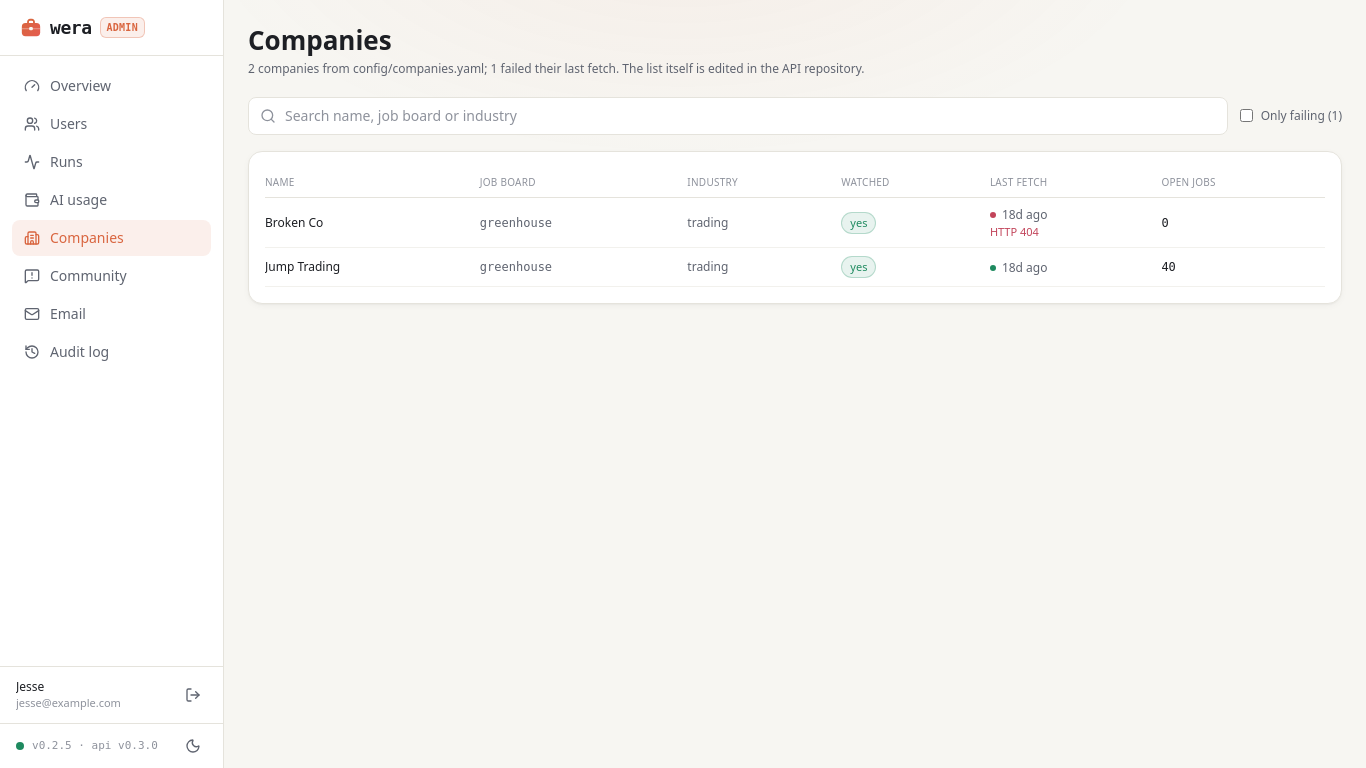
Test: CompaniesPage › puts failing companies first and filters to them
Check: the row "Broken Co greenhouse trading yes 18d ago HTTP 404 0" is shown, box [265,197,1325,248]
Check: the text "HTTP 404" is shown, box [990,224,1039,239]
Click the checkbox labelled "Only failing (1)".
click(1246, 116)  # box [1240,109,1253,122]
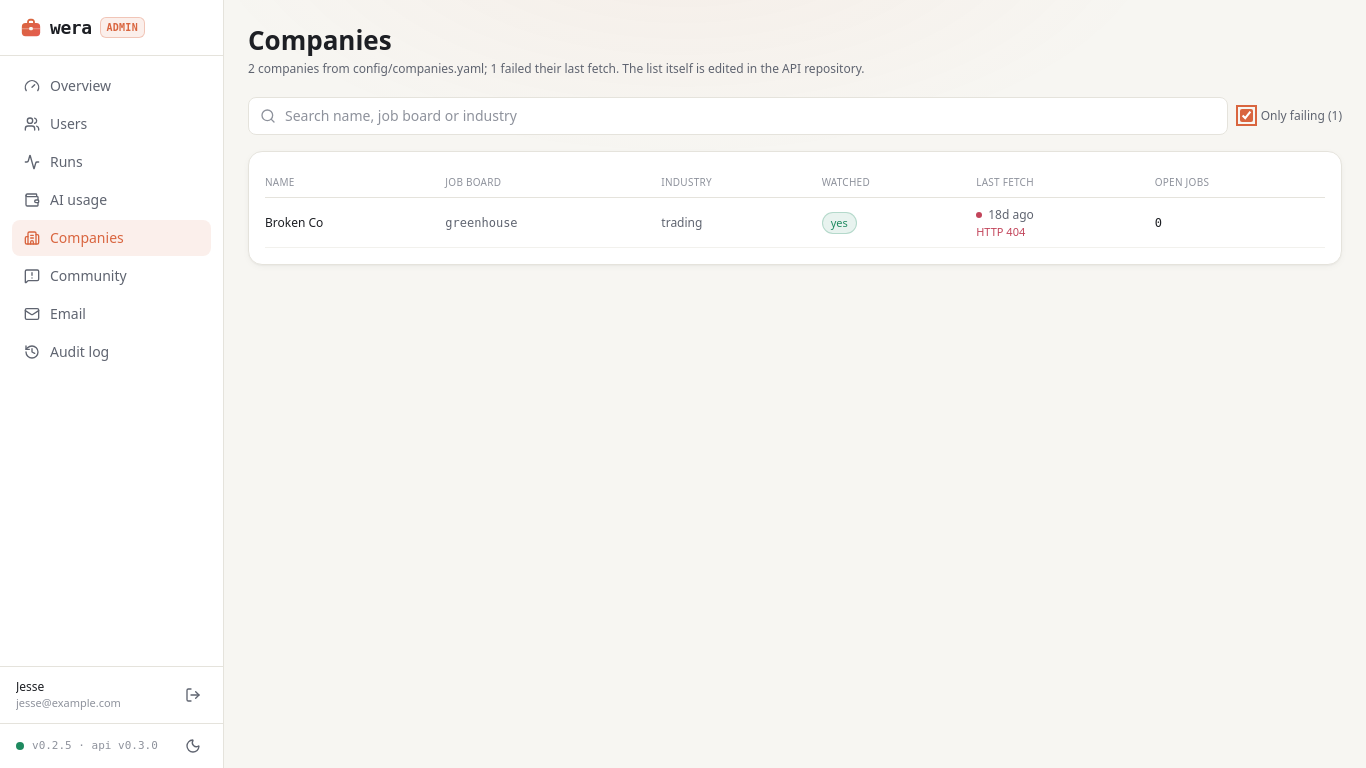
Check: the text "Jump Trading" is gone
